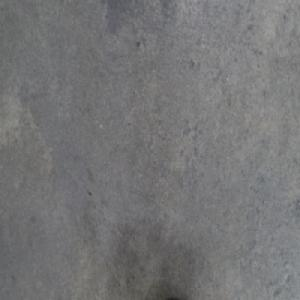AdjustableWrench: (157, 287, 192, 298)
